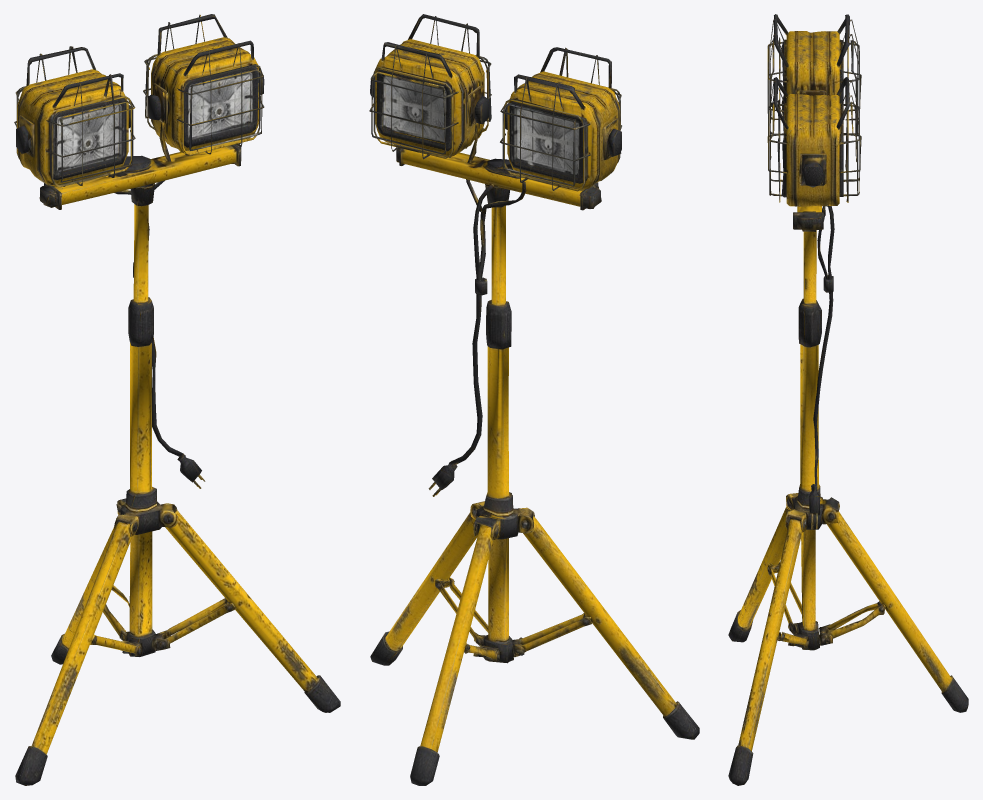
File: p7-tripod-work-light-t25.glb
The picture shows the model from 3 angles, left to right: view 1: azimuth 30°, elevation 25°; view 2: azimuth 150°, elevation 25°; view 3: azimuth 270°, elevation 25°; orthographic projection. The views are drawn at different scales.
Parts seen in each view (by area): view 1: p7-tripod-work-light-t25; view 2: p7-tripod-work-light-t25; view 3: p7-tripod-work-light-t25.
Boxes of the visible parts, left/top/right/bottom form: p7-tripod-work-light-t25: left=14, top=14, right=340, bottom=785; p7-tripod-work-light-t25: left=369, top=14, right=699, bottom=785; p7-tripod-work-light-t25: left=728, top=14, right=968, bottom=785.
Bounding box in the file's own units: 0.903 × 1.8 × 0.6.
1 material, 1 textured.
